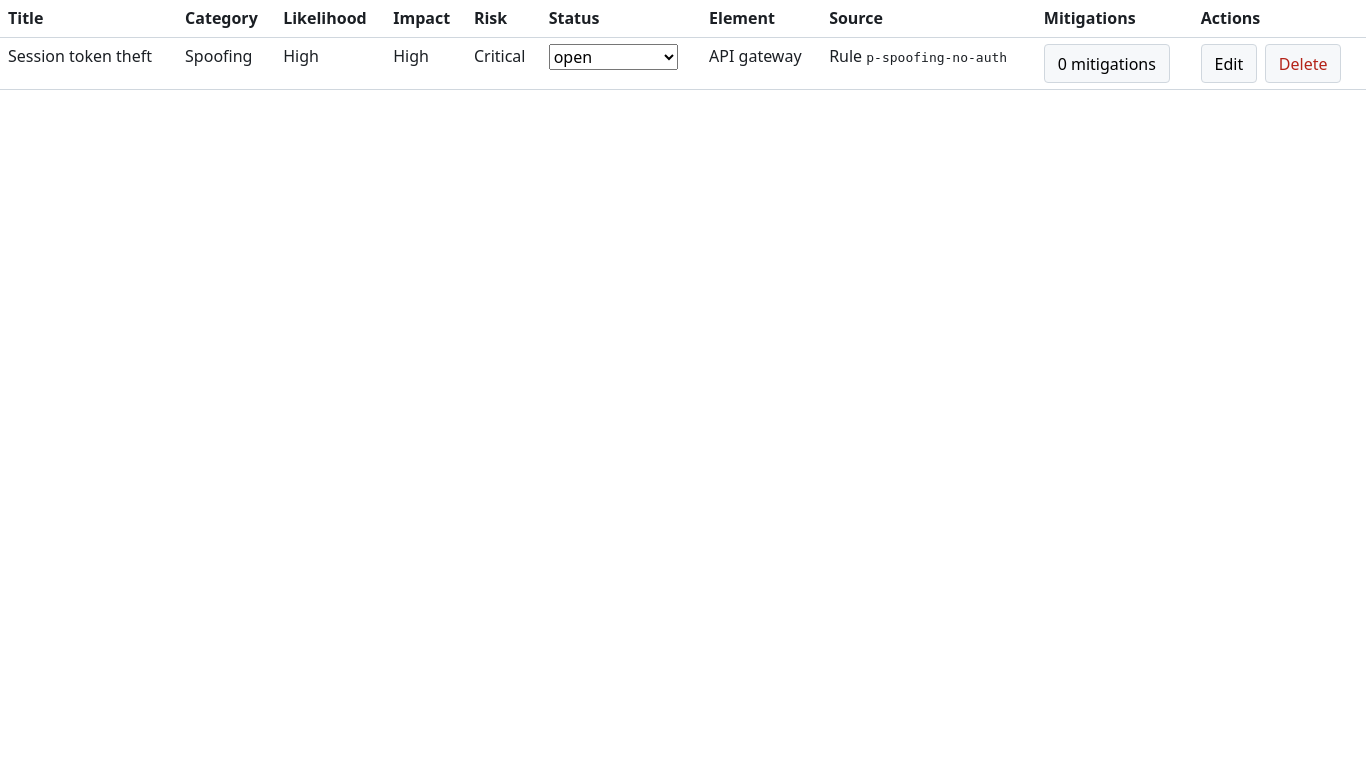
Test: ThreatTable › deleting a threat › warns that a generated threat comes back, and points to Not applicable (FR-016a)
Step 1. Click the button with aria-label "Delete threat" → (1303, 64), box top-left (1265, 44), bottom-right (1341, 83)
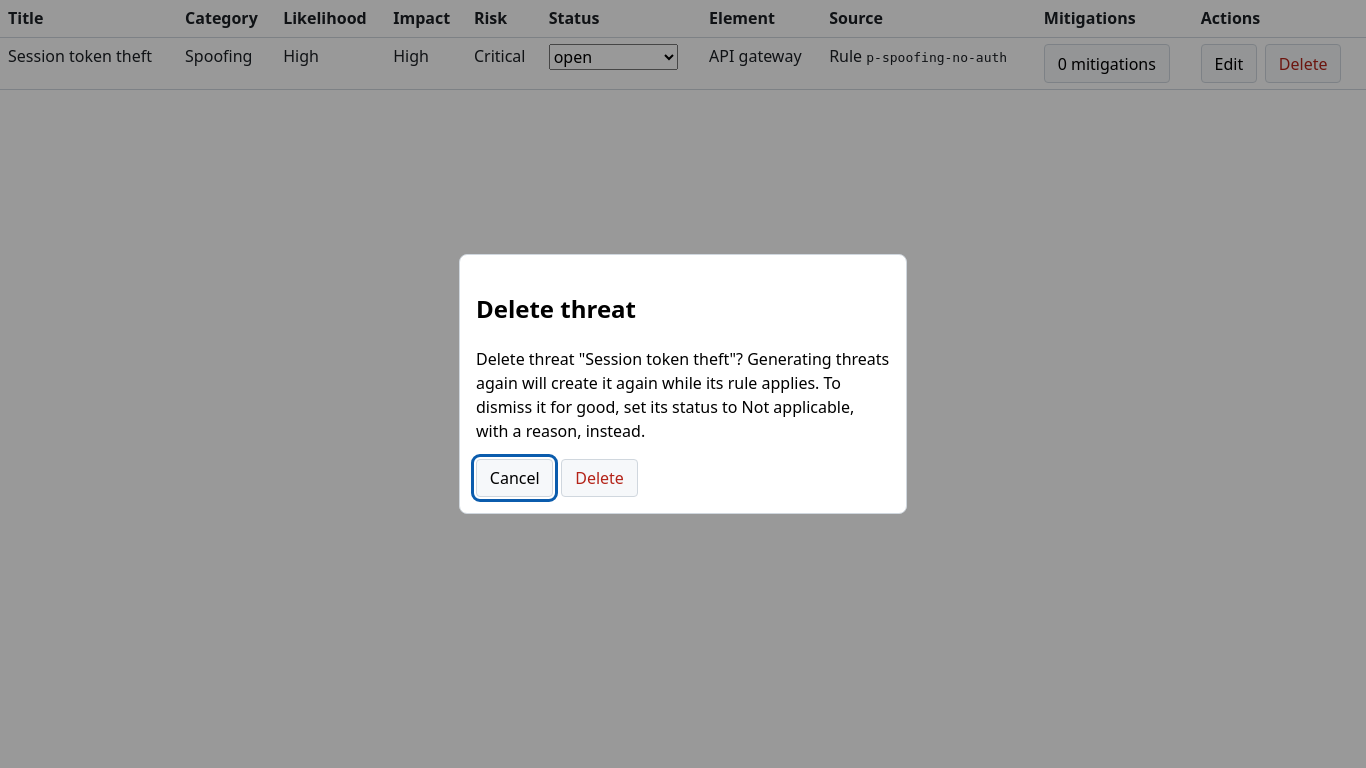
Expected: the text "Delete threat \"Session token theft\"?" shows "Generating threats again will create it again while its rule applies. To dismiss it for good, set its status to Not applicable, with a reason, instead.", top-left (476, 348), bottom-right (889, 442)
